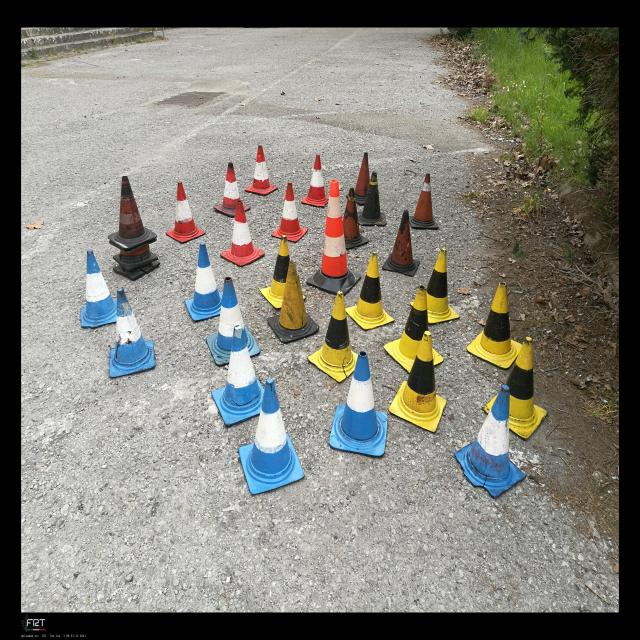blue_cone: (454, 385, 526, 498), (238, 378, 304, 495), (330, 351, 388, 457), (212, 325, 264, 427), (206, 277, 260, 366), (109, 288, 155, 378), (185, 243, 222, 321), (81, 250, 117, 327)
large_orange_cone: (307, 179, 361, 296)
orange_cone: (220, 200, 265, 266), (166, 182, 206, 244), (271, 182, 308, 242), (213, 162, 250, 217), (245, 146, 278, 195), (301, 154, 329, 207)
unknown_cone: (268, 259, 319, 342), (108, 176, 157, 250), (382, 210, 420, 276), (409, 172, 439, 228), (357, 171, 387, 226), (343, 188, 369, 249), (346, 152, 370, 205)
yellow_cone: (483, 337, 547, 439), (388, 331, 447, 432), (384, 286, 443, 374), (467, 282, 523, 368), (308, 290, 358, 382), (345, 252, 395, 330), (410, 248, 460, 324), (260, 235, 306, 309)
